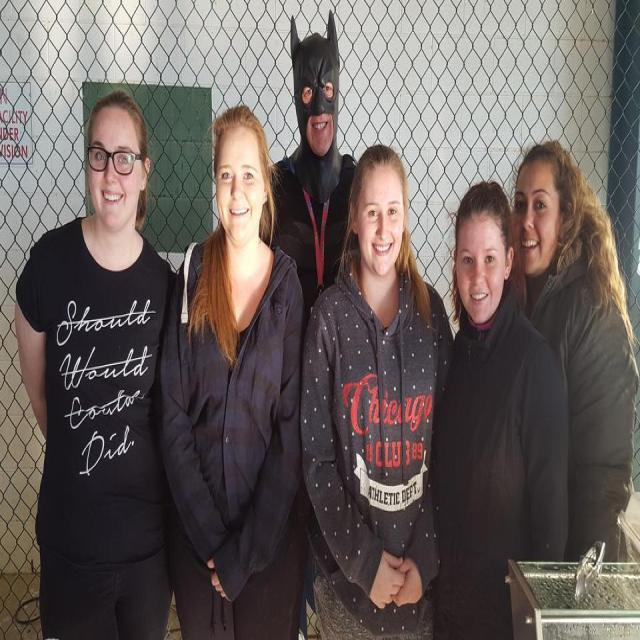body: (13, 84, 175, 639), (153, 99, 315, 639), (297, 140, 464, 639), (427, 175, 574, 639), (509, 137, 640, 566), (268, 32, 358, 322)
